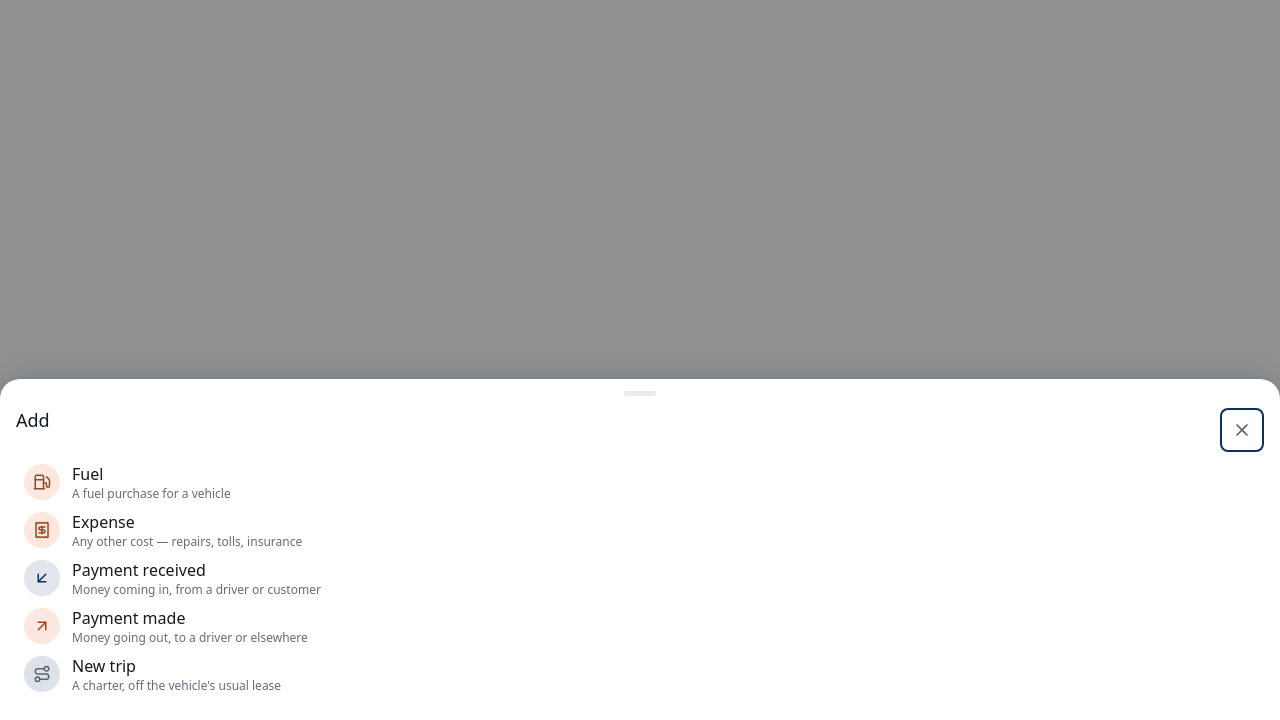
Test: Expense opens the record-expense sheet, and it stays open on a touch device (GAP-104)
Click the button "Expense Any other cost — repairs, tolls, insurance". click: (42, 530)
box: [16,508,1264,552]
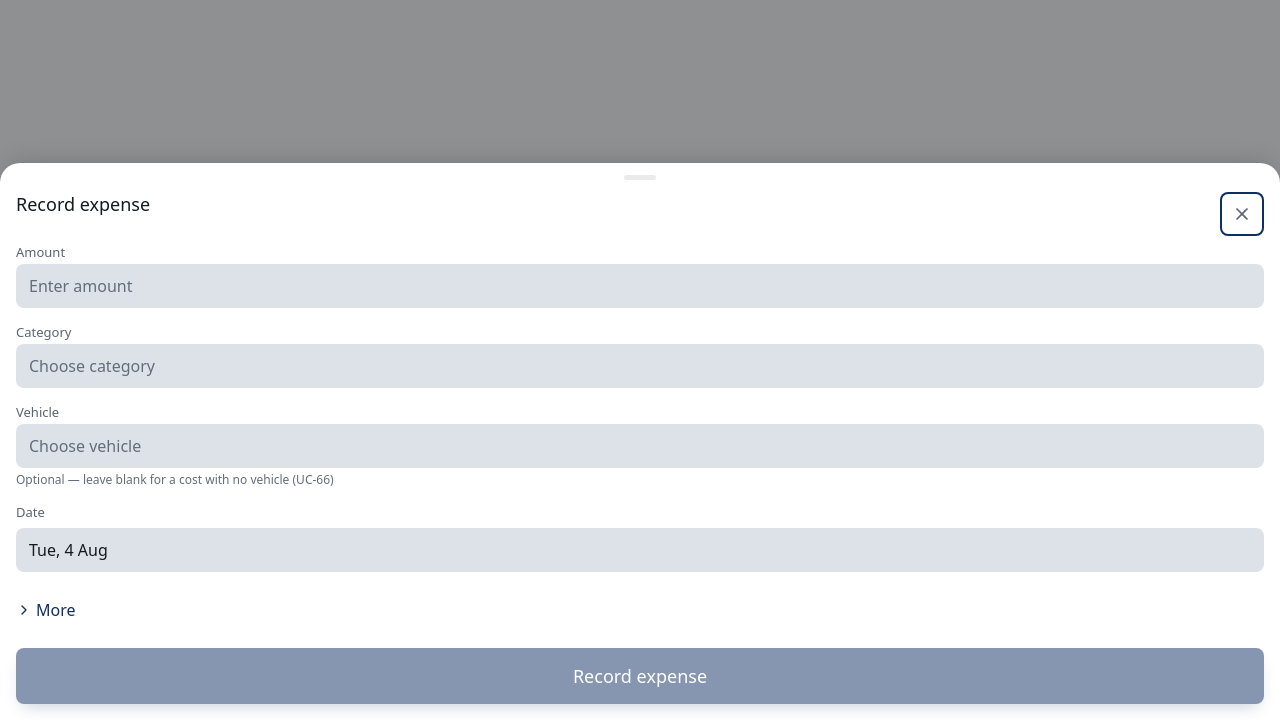
Expected: the heading "Record expense" is shown, [16,192,150,216]
